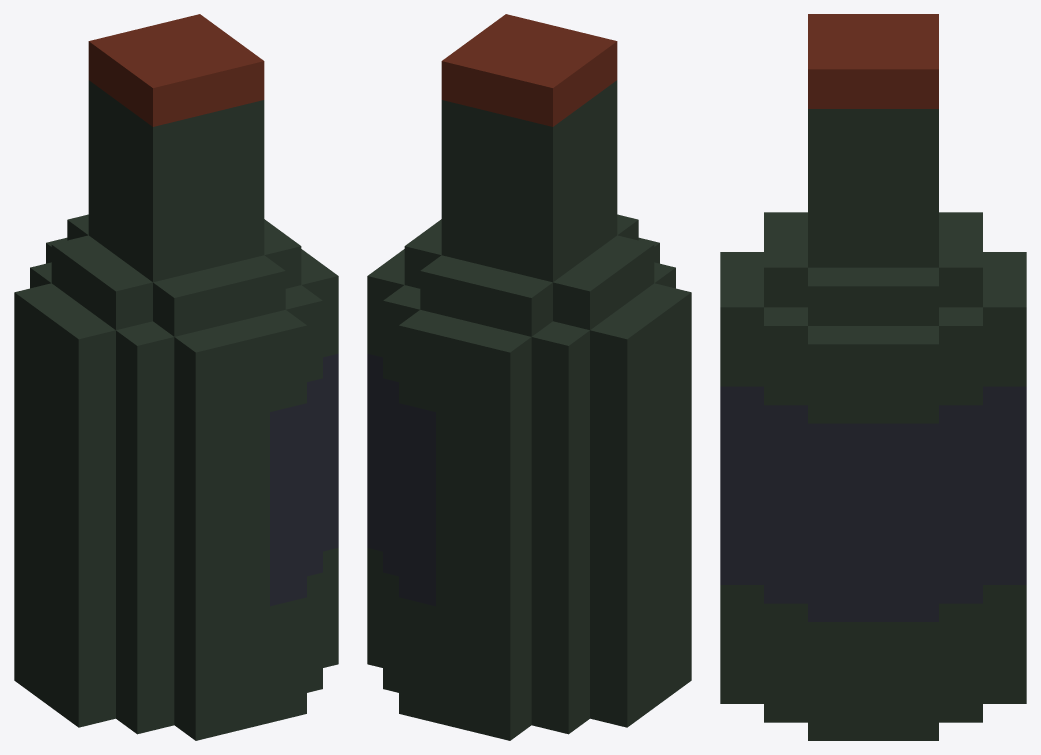
Rendered from WineBottle.obj.
The picture shows the model from 3 angles, left to right: view 1: azimuth 30°, elevation 25°; view 2: azimuth 150°, elevation 25°; view 3: azimuth 270°, elevation 25°; orthographic projection. The views are drawn at different scales.
Size of the model in its own units: 0.7 by 1.6 by 0.7.
Materials: 1 (1 with a texture image).
